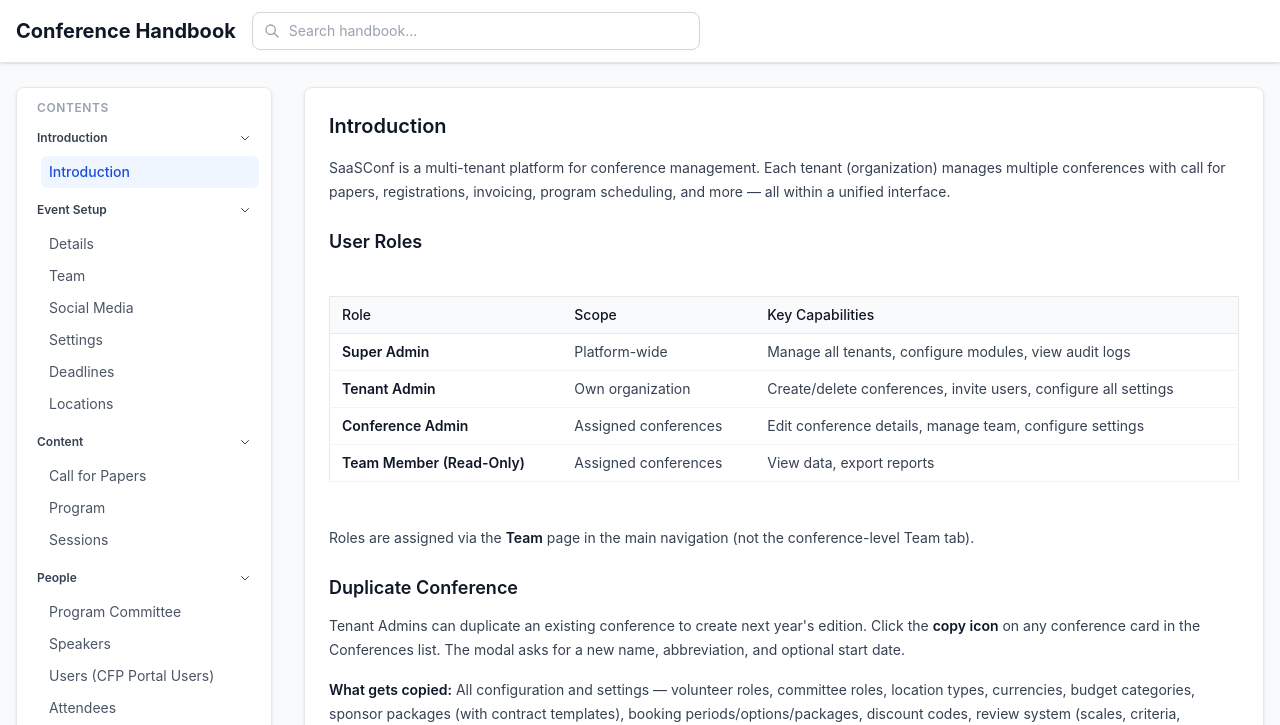
Scenario: Handbook search › filters sections when the search matches a single word
Type "privacy" into the field with placeholder "Search handbook..." at (476, 31), box [252,12,700,50]
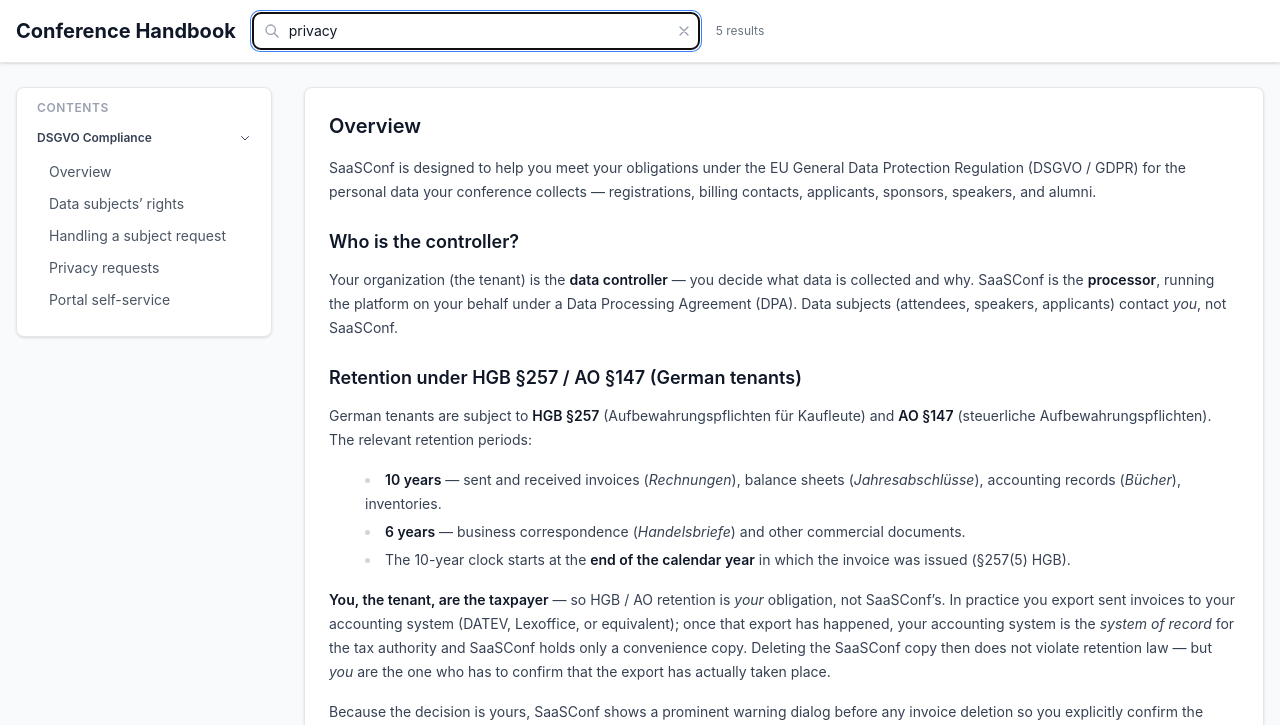
Now the text "5 results" is shown, box [716,23,764,39]
